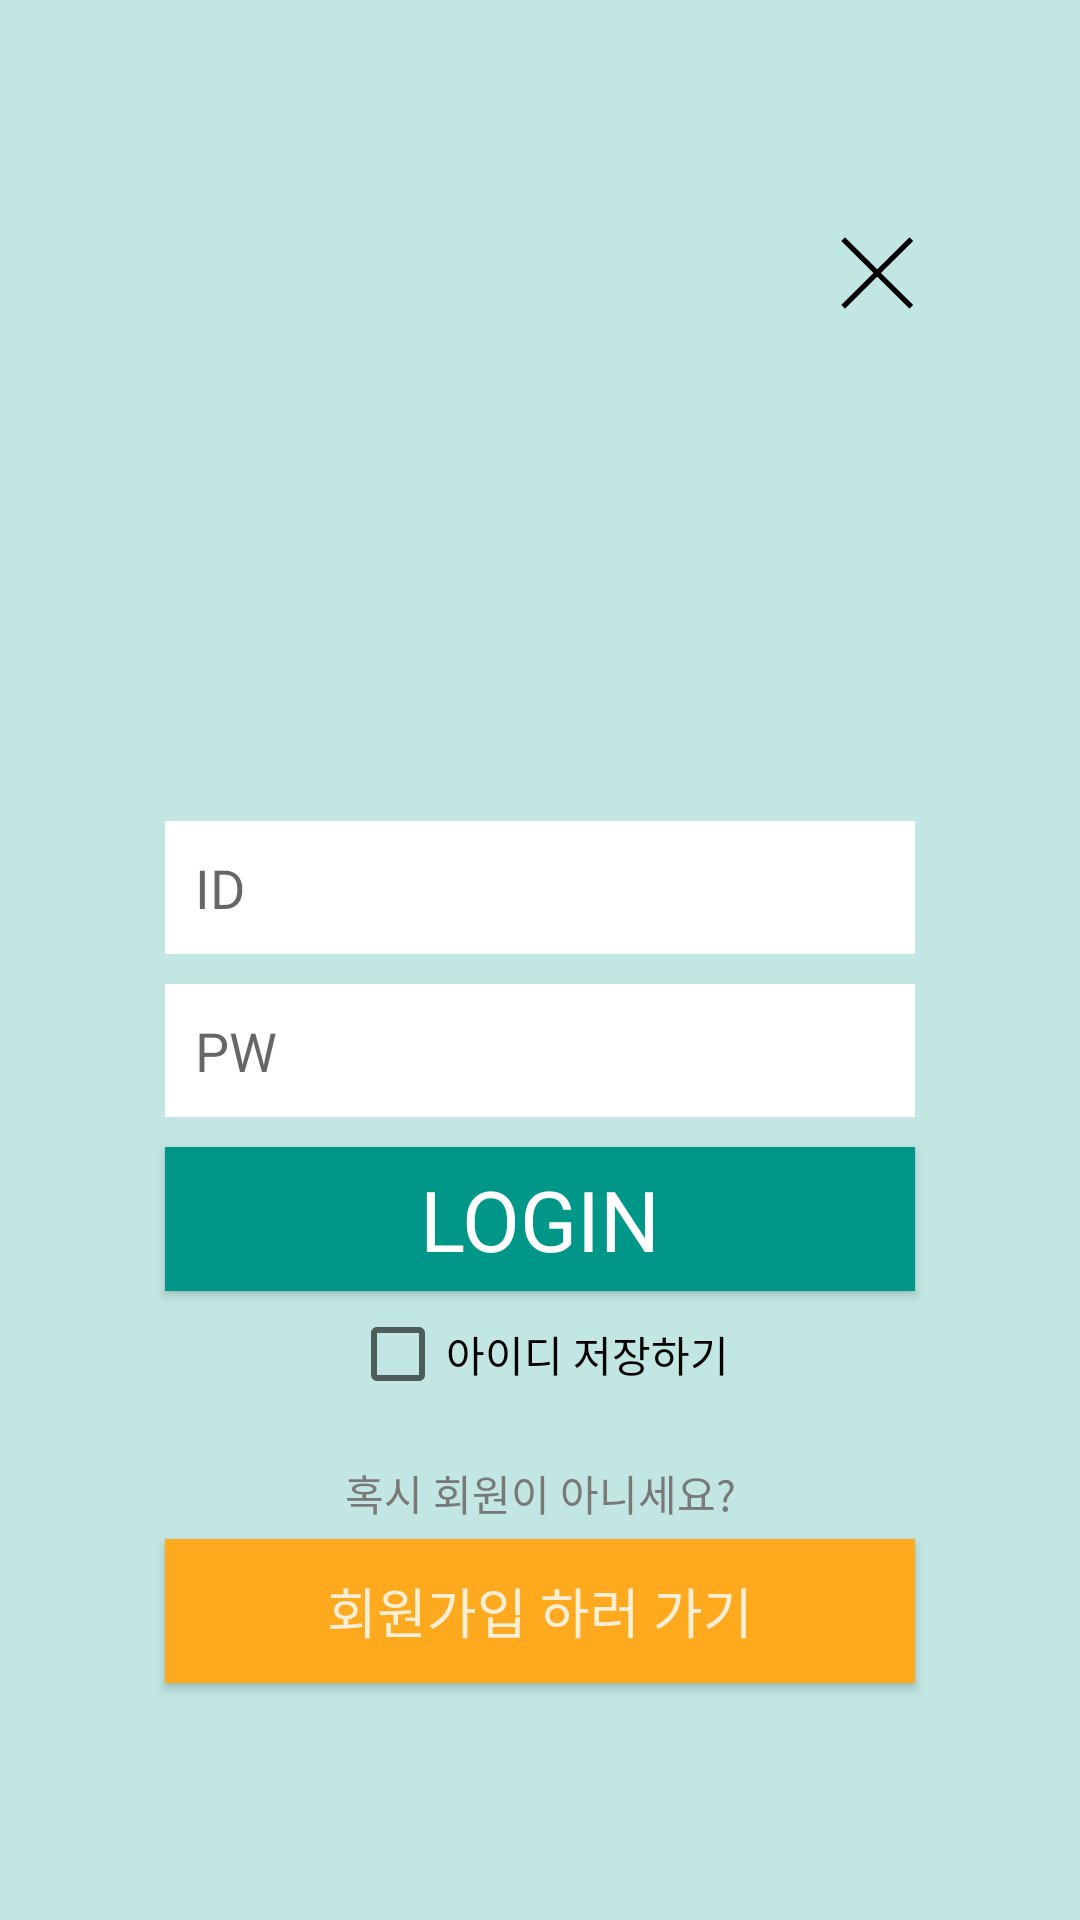

Screen size 1080x1920. Icon name, then its box in pixels as (x1, y1, x2, y2):
close: (841, 237, 913, 309)
